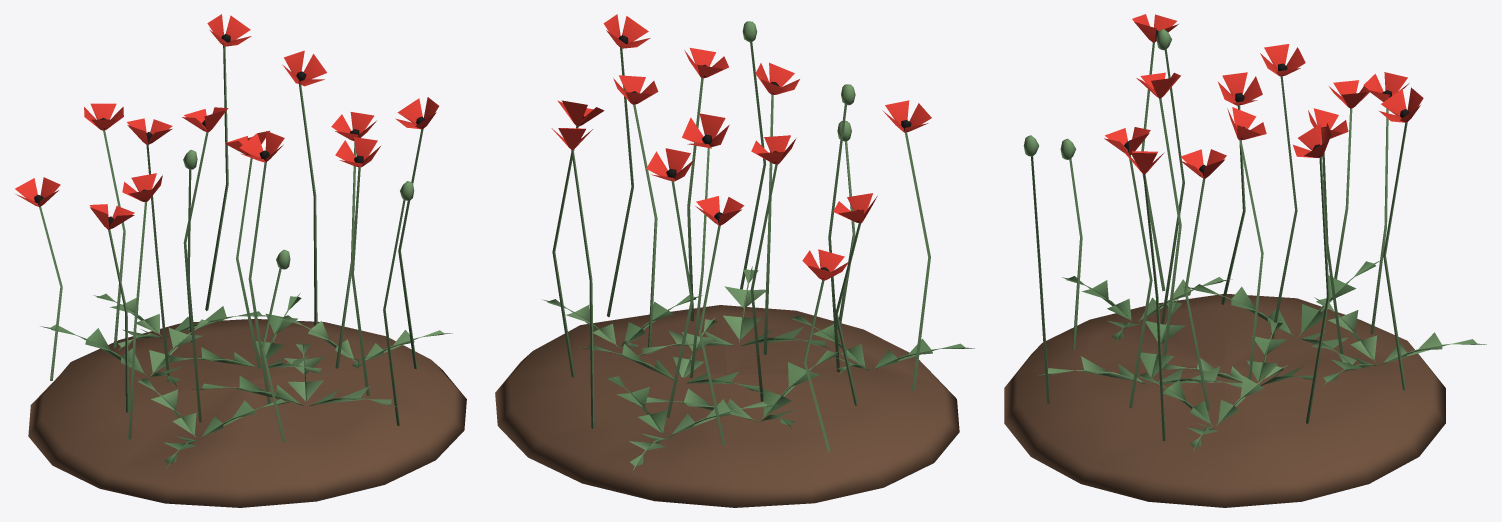
The model's file is poppies.glb.
3 views of the same model, side by side, from view 1: azimuth 30°, elevation 25°; view 2: azimuth 150°, elevation 25°; view 3: azimuth 270°, elevation 25° (orthographic). The views are drawn at different scales.
Parts seen in each view (by area): view 1: poppies; view 2: poppies; view 3: poppies.
Boxes of the visible parts, left/top/right/bottom form: poppies: left=15, top=14, right=466, bottom=507; poppies: left=495, top=14, right=974, bottom=507; poppies: left=1004, top=14, right=1486, bottom=507.
Bounding box in the file's own units: 0.84 × 0.657 × 0.84.
